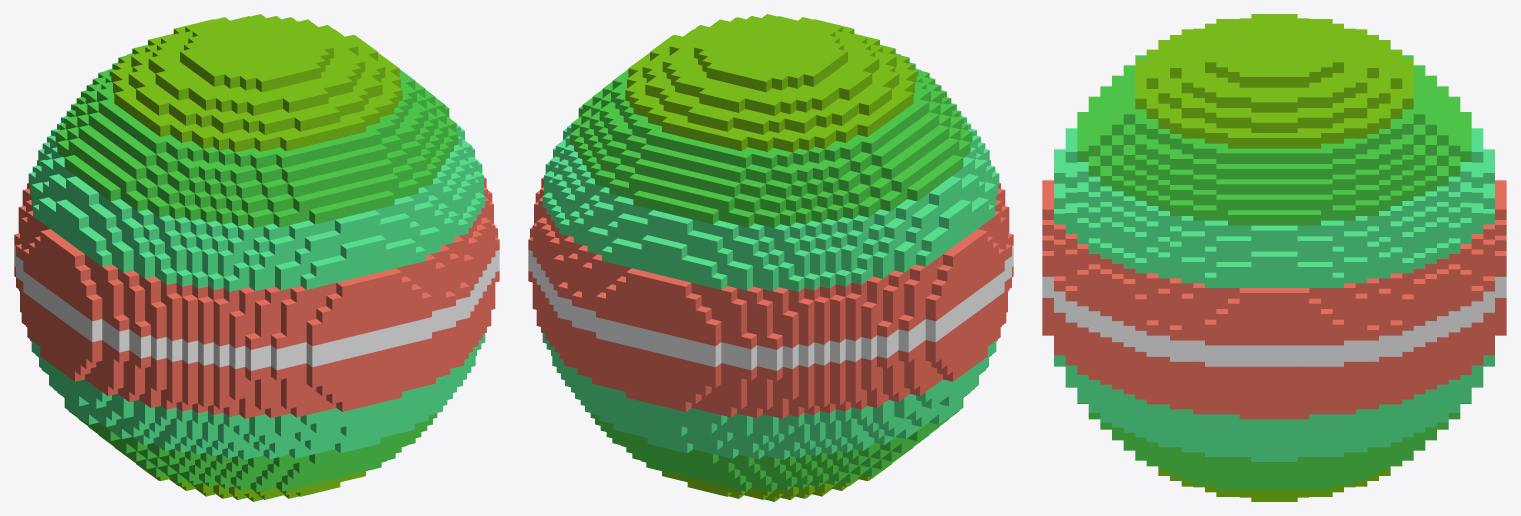
The model's file is Character_4.fbx.
3 renders of one model, left to right at view 1: azimuth 30°, elevation 25°; view 2: azimuth 150°, elevation 25°; view 3: azimuth 270°, elevation 25°, orthographic.
Parts seen in each view (by area): view 1: Character_4; view 2: Character_4; view 3: Character_4.
Part boxes in pixels (bbox=[...]): Character_4: bbox=[14, 14, 499, 501]; Character_4: bbox=[528, 14, 1013, 501]; Character_4: bbox=[1042, 14, 1506, 501].
Bounding box in the file's own units: 40 × 40 × 40.
Materials: 1 (1 with a texture image).
